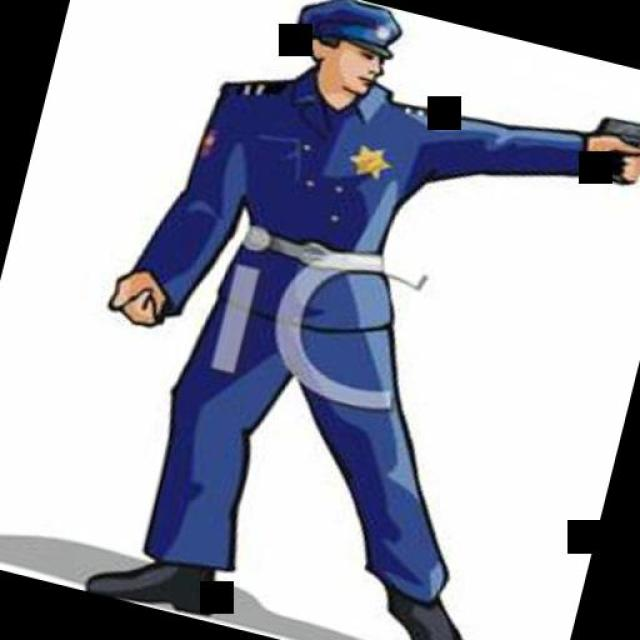gun: (579, 108, 640, 198)
